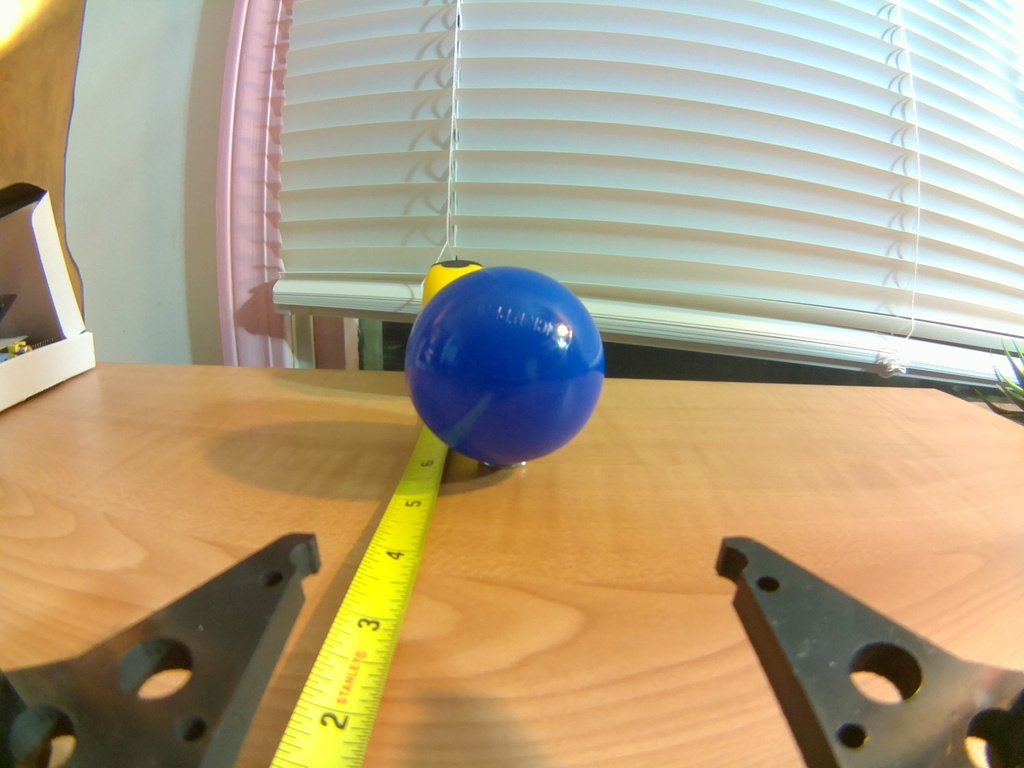ball: (402, 264, 605, 471)
